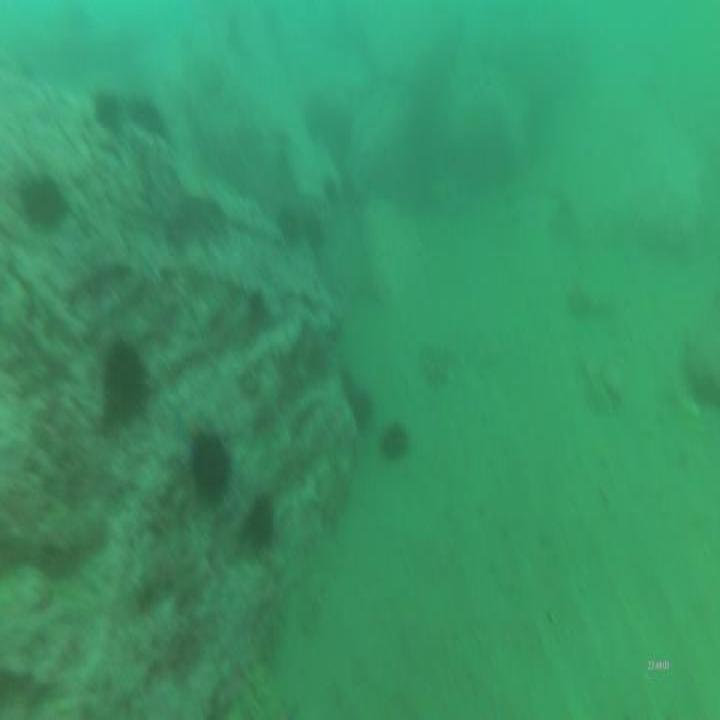echinus: (100, 336, 153, 427), (14, 171, 72, 238), (190, 427, 232, 510), (125, 94, 172, 144), (241, 492, 278, 554), (89, 82, 125, 138), (272, 199, 305, 254), (377, 418, 411, 468), (301, 89, 330, 144), (349, 386, 376, 434), (301, 204, 325, 252), (336, 361, 355, 411), (338, 171, 355, 201), (323, 174, 337, 204)
